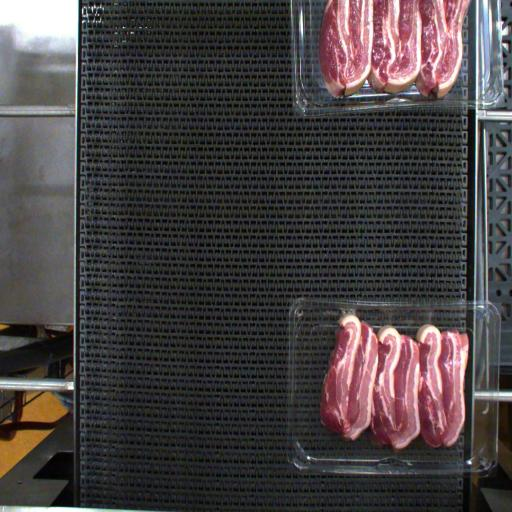packaging-error: (415, 290, 441, 332), (336, 300, 366, 320)
